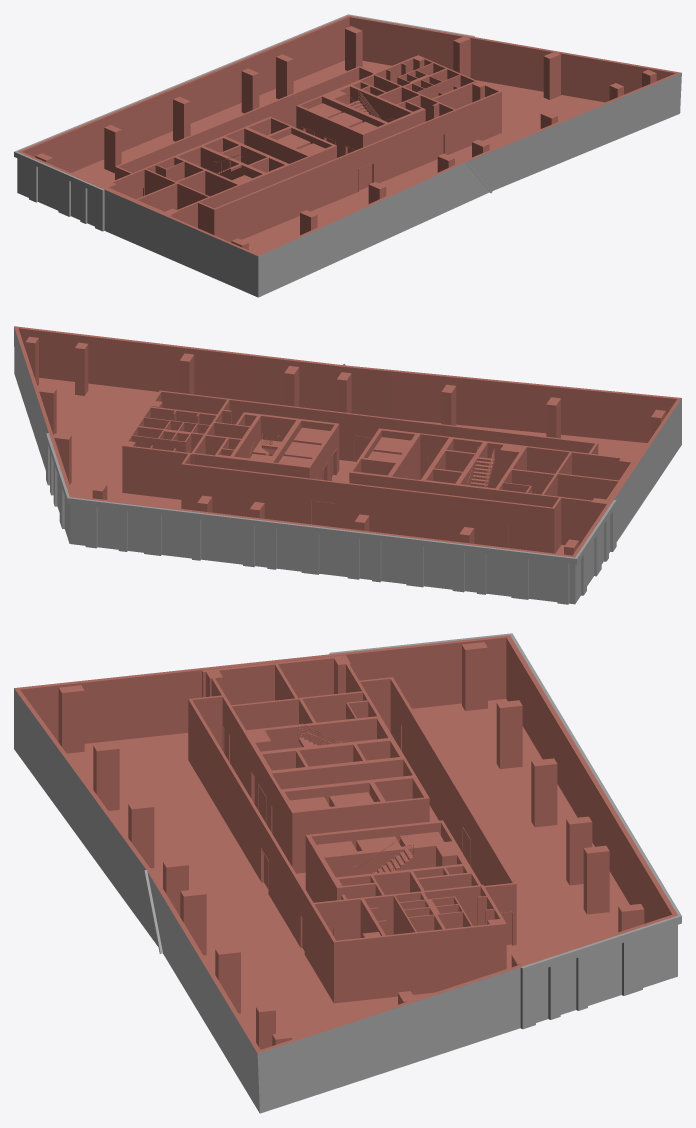
The model's file is JLL_Ruya_Region3DModels_Riyadh_Derived_HeroBuildings_Building 305_Floors_KSA_04_04105_B29_Floor_T1_9.fbx.
The picture shows the model from 3 angles, top to bottom: view 1: azimuth 30°, elevation 25°; view 2: azimuth 150°, elevation 25°; view 3: azimuth 270°, elevation 25°; orthographic projection. The views are drawn at different scales.
Parts seen in each view (by area): view 1: KSA_04_04105_B29_Floor_T1_9; view 2: KSA_04_04105_B29_Floor_T1_9; view 3: KSA_04_04105_B29_Floor_T1_9.
Boxes of the visible parts, x1,y1,x2,y2 form: KSA_04_04105_B29_Floor_T1_9: (14,14,681,297); KSA_04_04105_B29_Floor_T1_9: (14,326,681,604); KSA_04_04105_B29_Floor_T1_9: (14,633,681,1113).
Size of what is drawn, in the model's own units: 6026 by 508 by 4048.
